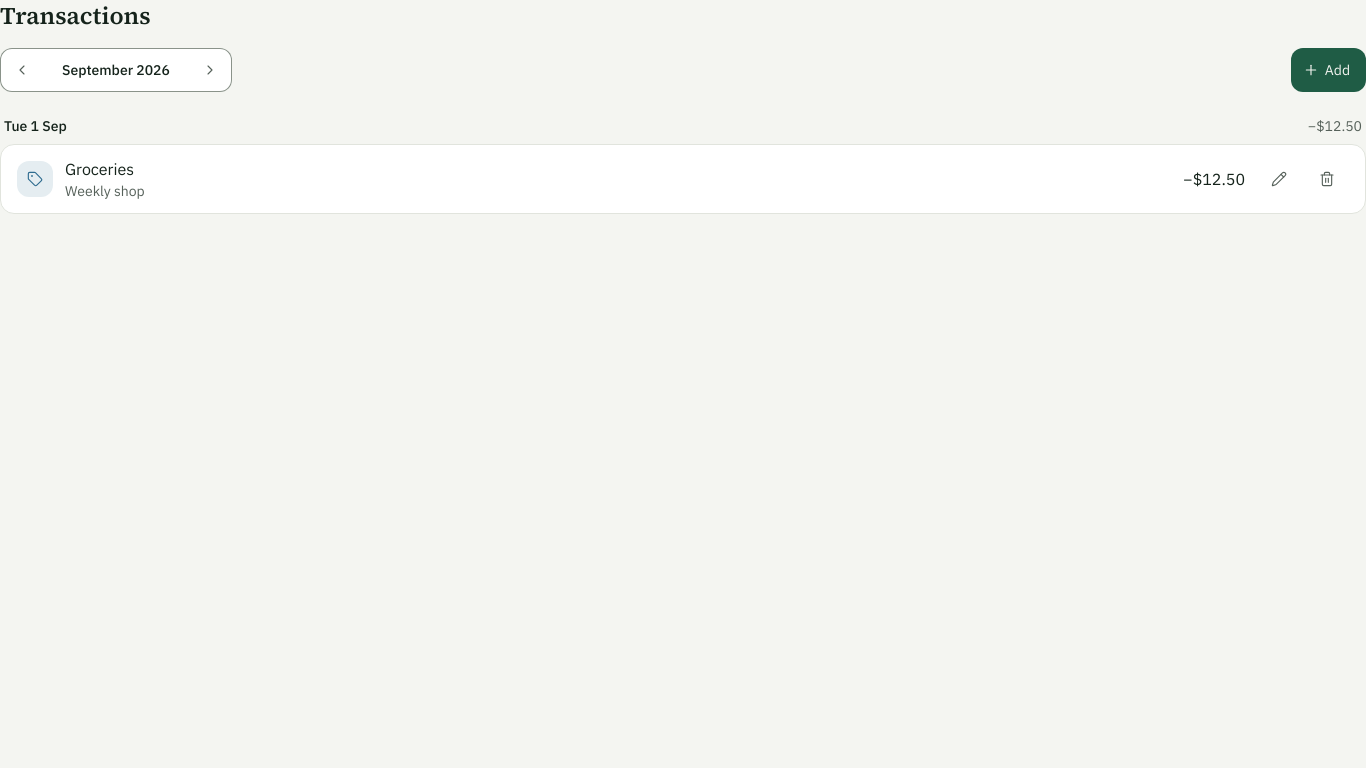
Test: TransactionsPage add/edit modal › closes silently on outside click when the form is untouched
Check: the text "Weekly shop" is shown, box x1=65 y1=182 x2=145 y2=200
Click the button "Add": coordinates (1328, 70) x1=1291 y1=48 x2=1365 y2=92
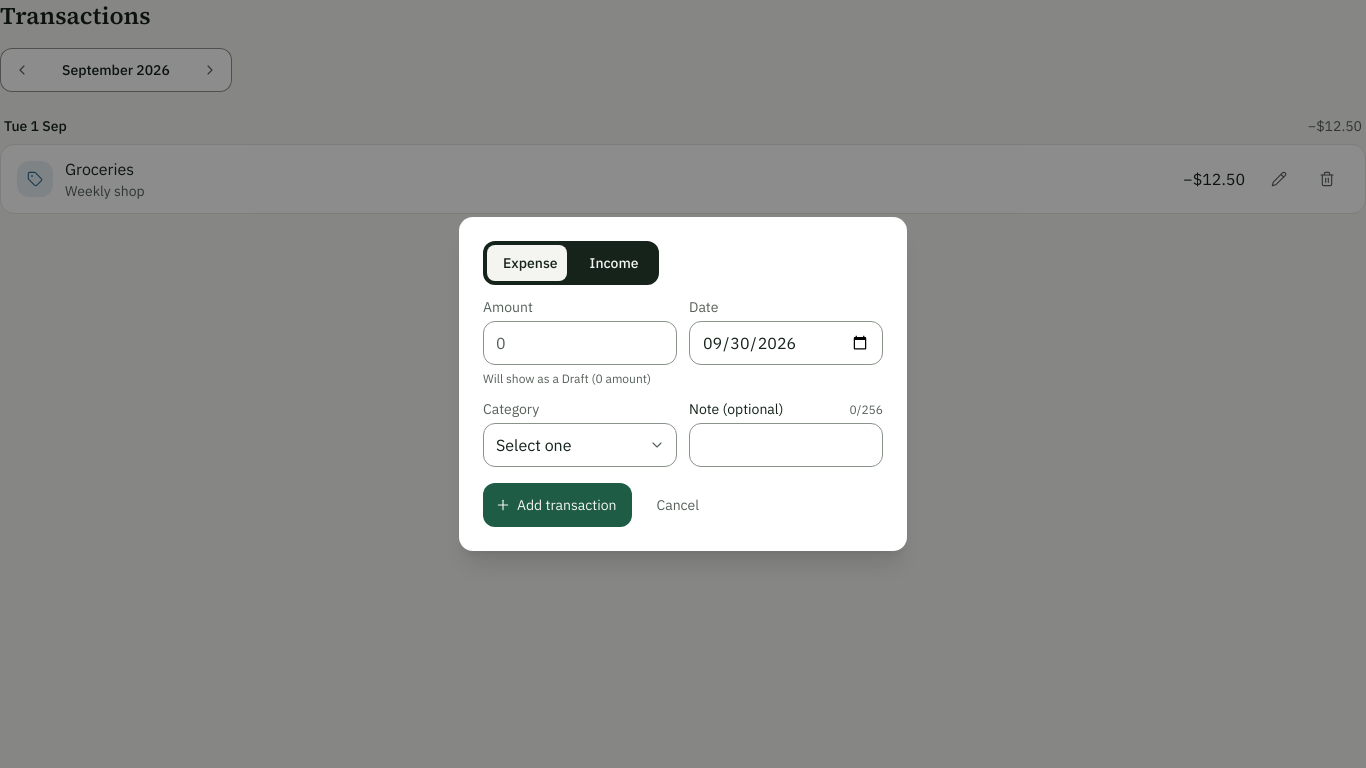
Click the element with class "inset-0": coordinates (82, 384) x1=0 y1=0 x2=1365 y2=767
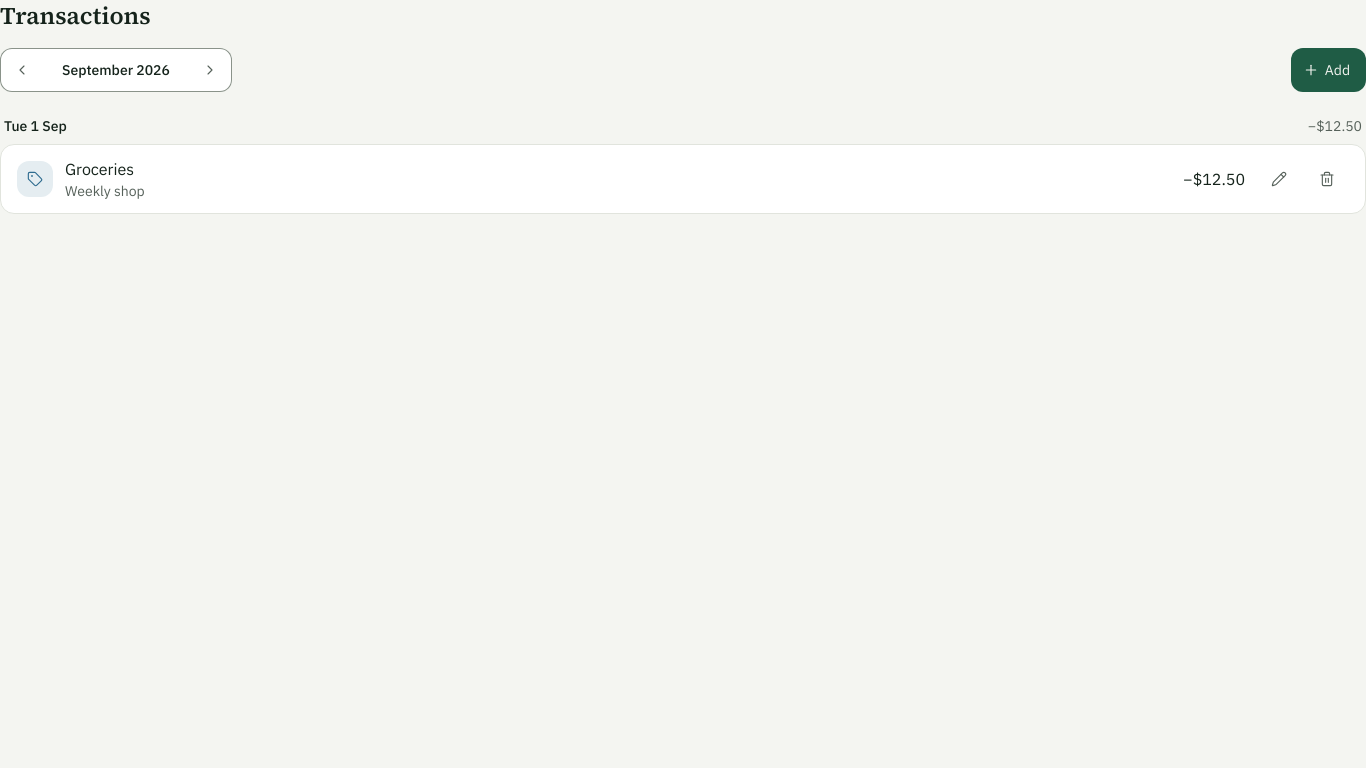
Check: the label labelled "Amount" is gone
